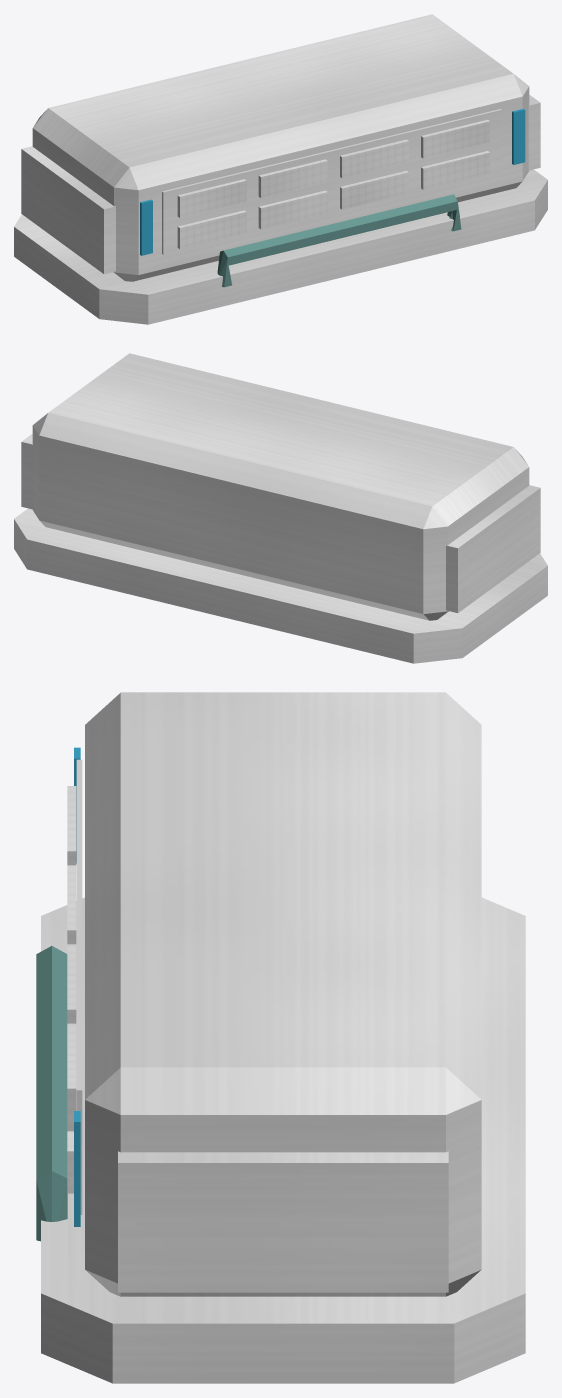
File: gene_bank.obj
The picture shows the model from 3 angles, top to bottom: view 1: azimuth 30°, elevation 25°; view 2: azimuth 150°, elevation 25°; view 3: azimuth 270°, elevation 25°; orthographic projection. The views are drawn at different scales.
Visible parts, largest first — view 1: gene_bank; view 2: gene_bank; view 3: gene_bank.
Part boxes in pixels (box(x1,y1,x2,y2)): gene_bank: box(14, 14, 547, 324); gene_bank: box(14, 353, 547, 663); gene_bank: box(36, 692, 525, 1383).
Size of the model in its own units: 1.88 by 0.57 by 0.8886.
